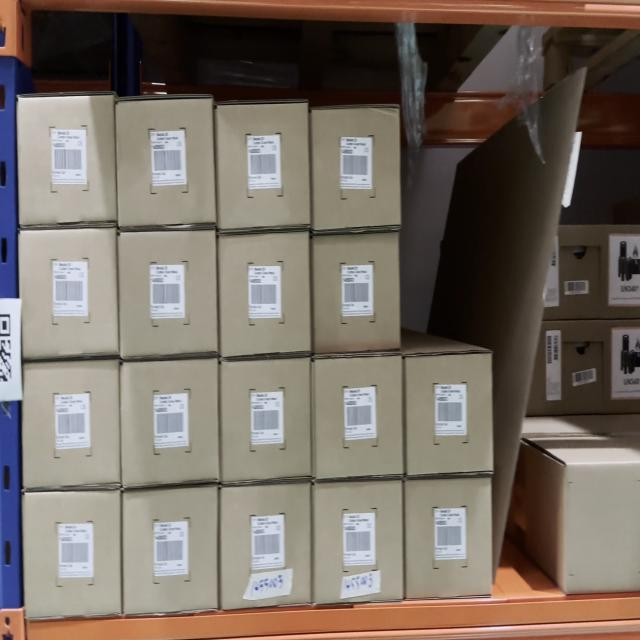box: (15, 94, 120, 230), (118, 228, 218, 359), (214, 101, 312, 234), (19, 227, 120, 356), (23, 489, 125, 615), (23, 360, 122, 489), (122, 484, 220, 614), (119, 356, 220, 480), (216, 228, 313, 356), (219, 478, 314, 608), (310, 104, 404, 235), (312, 349, 406, 478), (120, 99, 214, 225), (219, 358, 312, 482), (311, 477, 404, 599), (404, 476, 494, 597), (311, 232, 401, 352), (404, 354, 491, 474)
